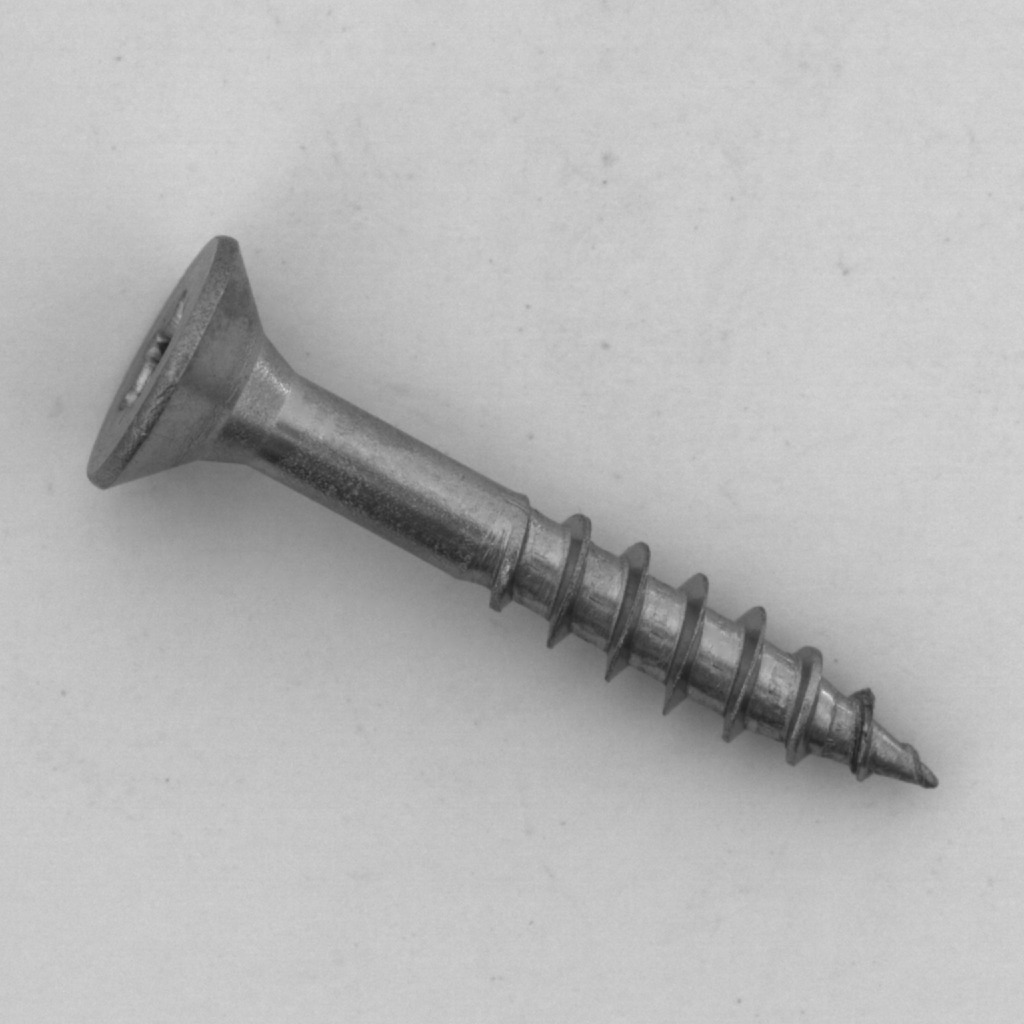good: (64, 215, 966, 817)
